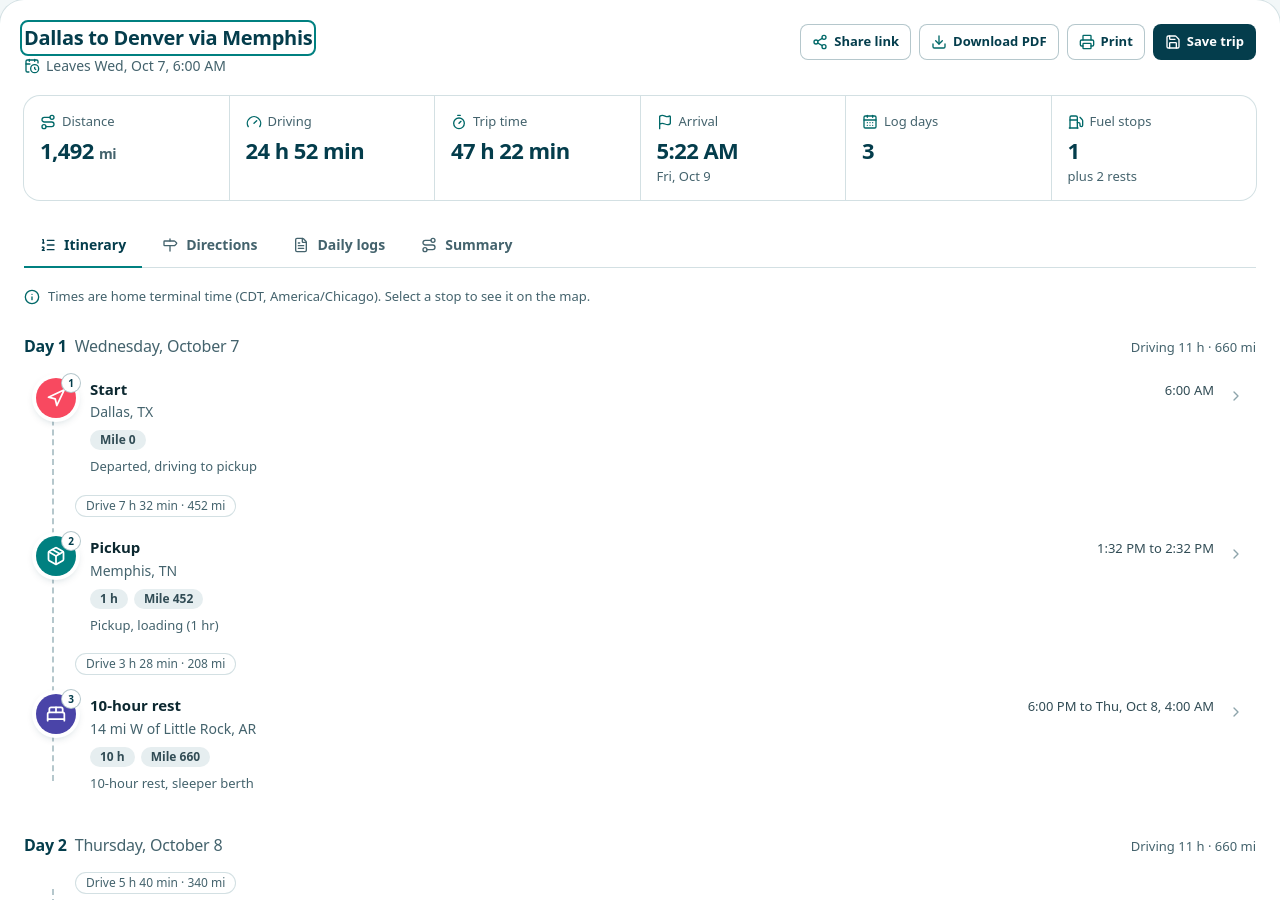
Scenario: summary tab › shows the cycle at the start and at arrival
Click the tab with test id "tab-summary": (467, 246) [405, 224, 528, 268]
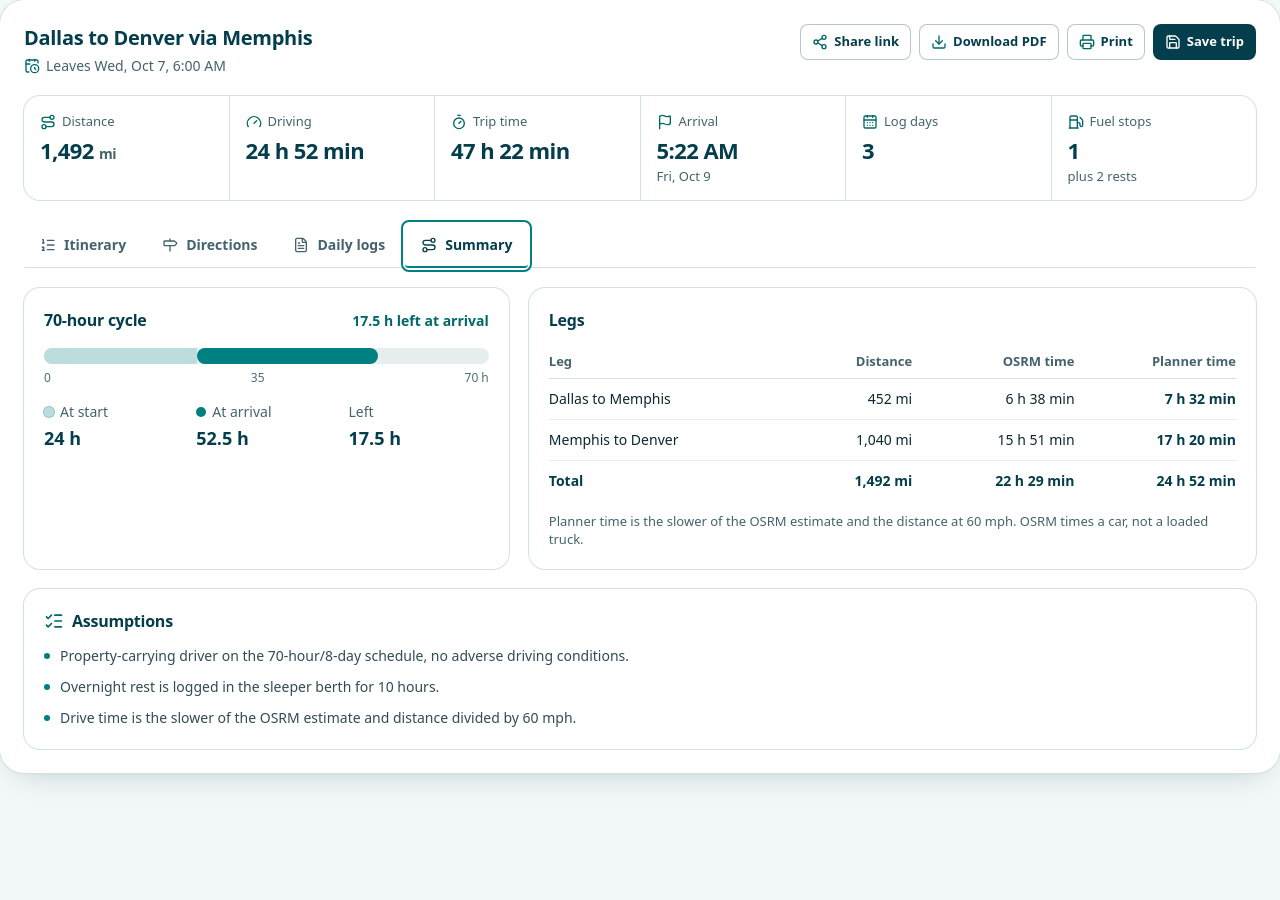
Expected: the element with test id "cycle-meter" shows "17.5 h left at arrival", [24, 288, 509, 569]
Expected: the text "24 h" is shown, [44, 426, 81, 450]
Expected: the text "52.5 h" is shown, [196, 426, 249, 450]
